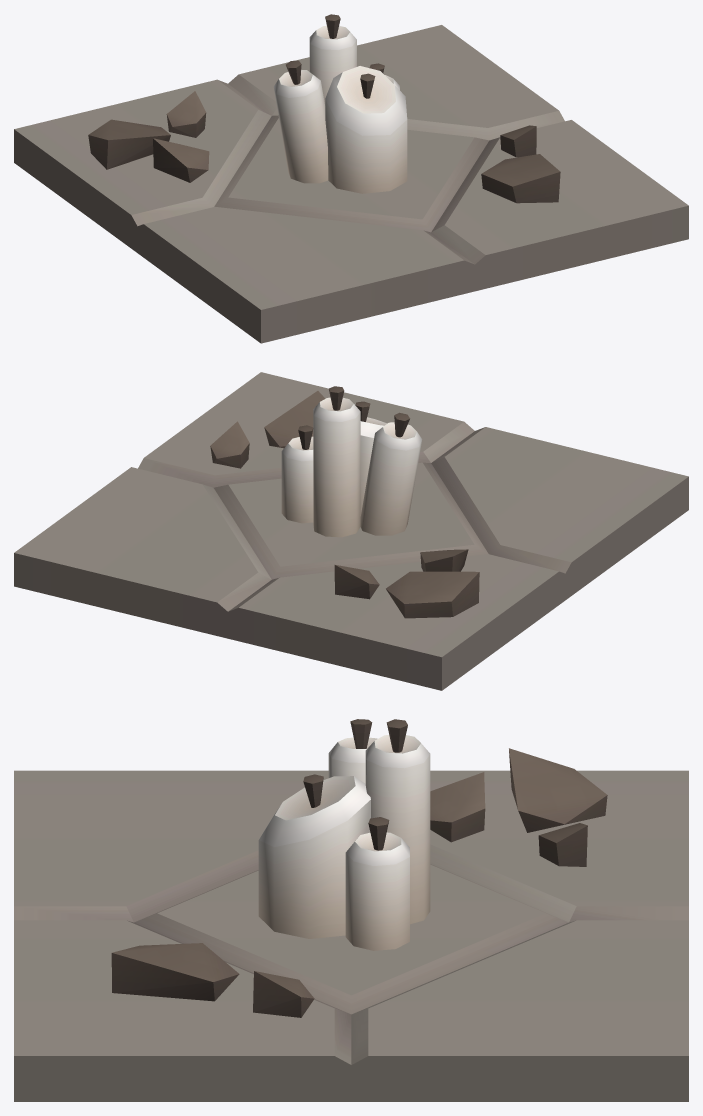
File: floor_tile_small_decorated.glb
3 renders of one model, top to bottom at view 1: azimuth 30°, elevation 25°; view 2: azimuth 150°, elevation 25°; view 3: azimuth 270°, elevation 25°, orthographic. The views are drawn at different scales.
Parts seen in each view (by area): view 1: floor_tile_small_decorated; view 2: floor_tile_small_decorated; view 3: floor_tile_small_decorated.
Boxes of the visible parts, <box> form: floor_tile_small_decorated: <box>14,14,688,343</box>; floor_tile_small_decorated: <box>14,372,688,690</box>; floor_tile_small_decorated: <box>14,719,688,1101</box>.
Bounding box in the file's own units: 2 × 0.773 × 2.
Materials: 1 (1 with a texture image).
